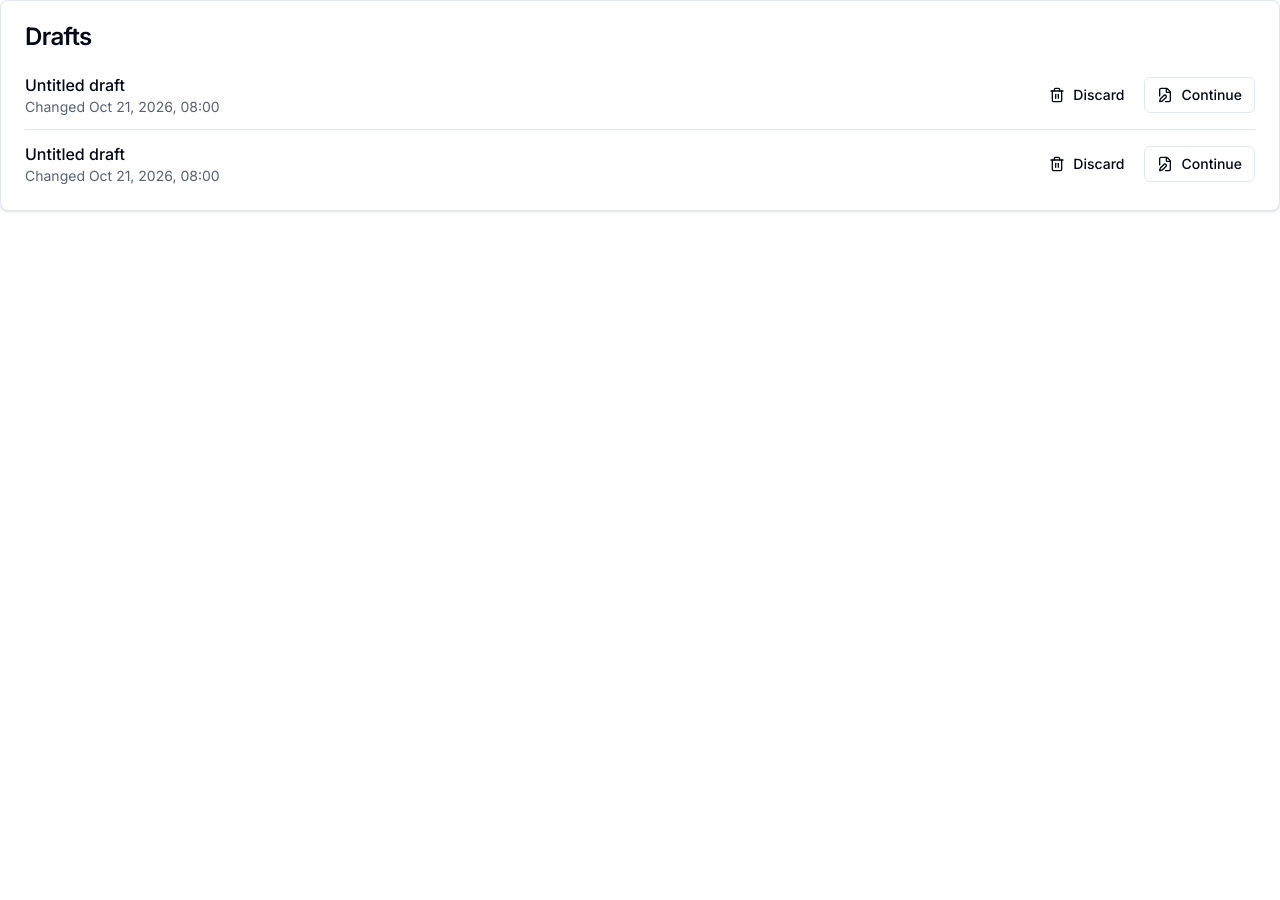
Test case: DiveDraftsCard › drops a draft that was already gone when discarded
Click the 1st button "Discard": [1087, 95] box left=1037, top=77, right=1136, bottom=113
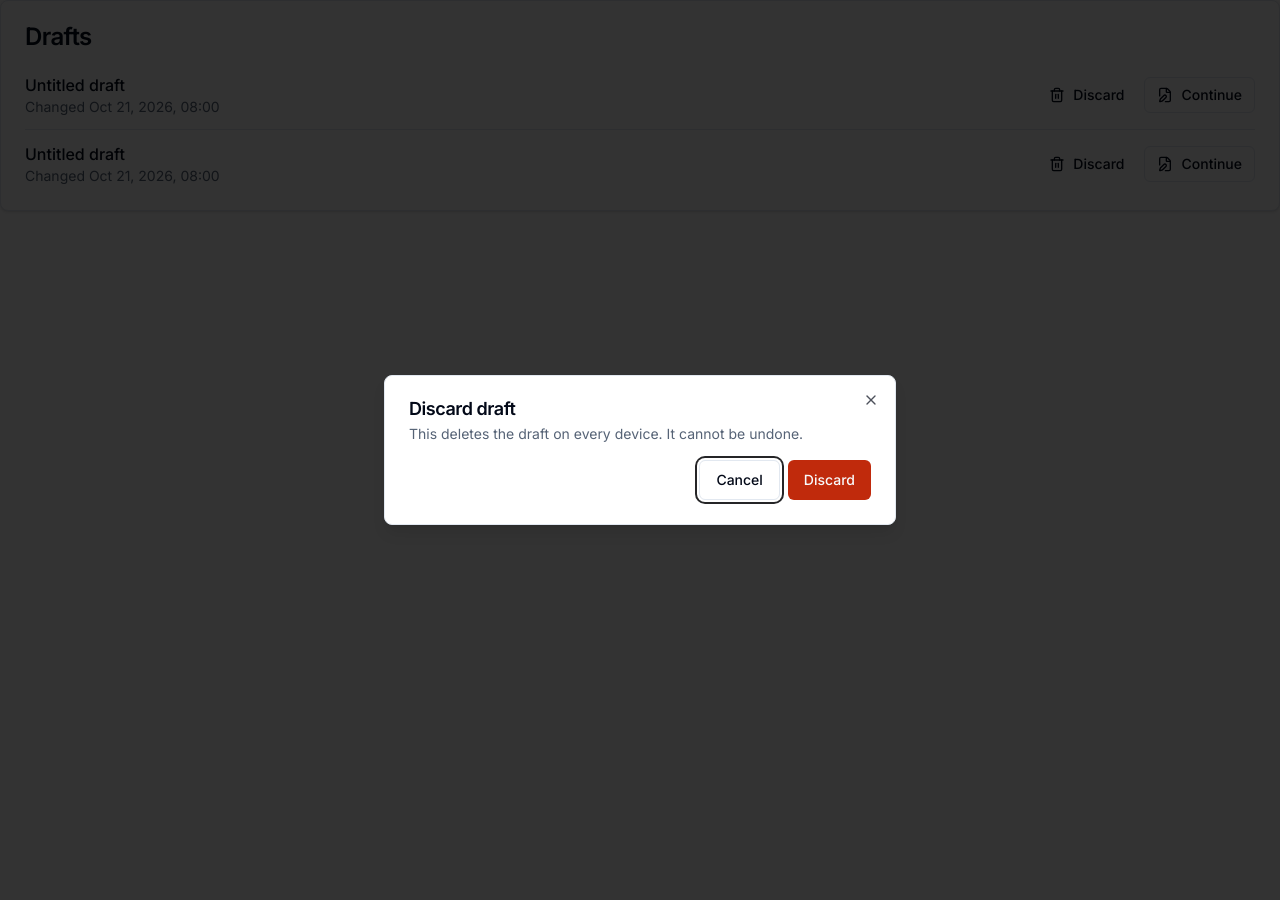
Click the button "Discard": [829, 480] box left=788, top=460, right=871, bottom=500
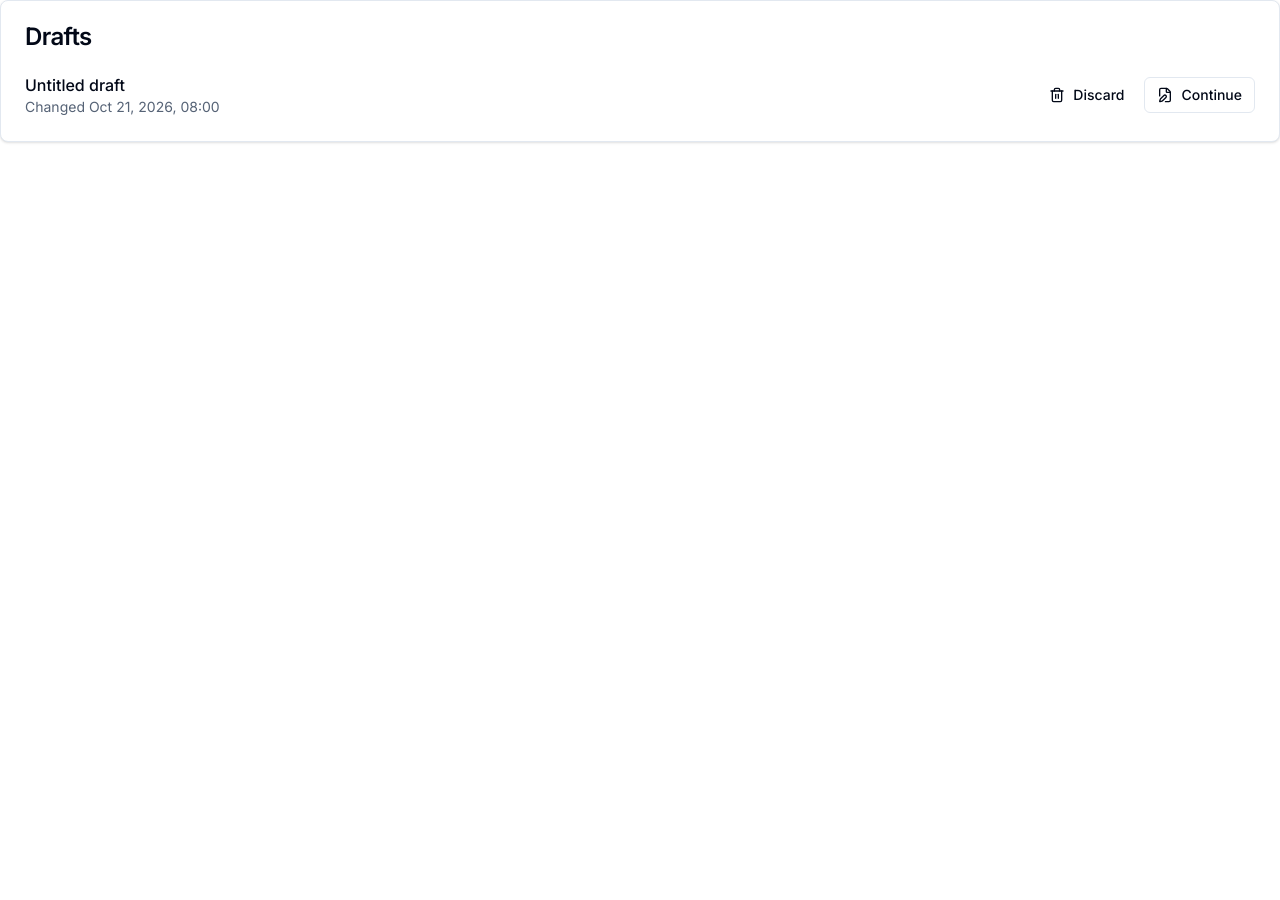
Expected: the number of list items is 1, left=25, top=73, right=1255, bottom=117
